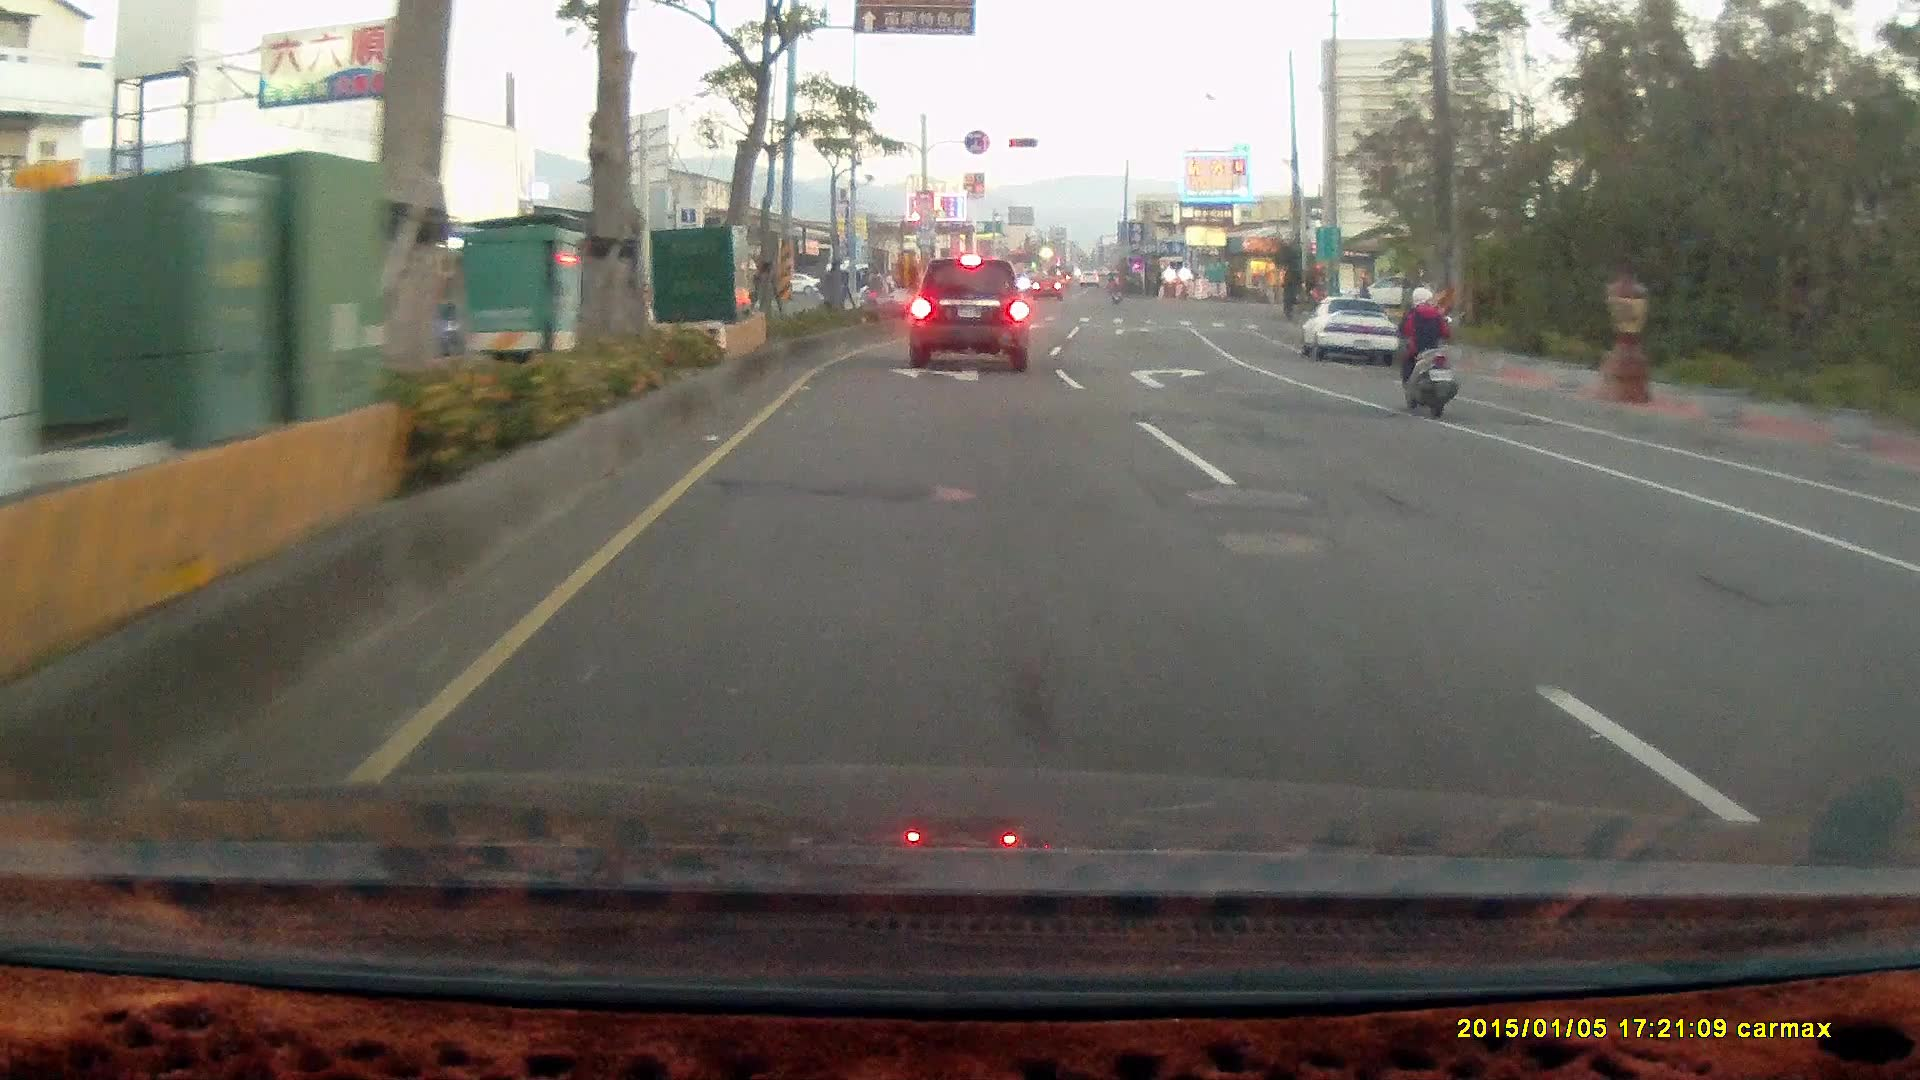rider: (1383, 278, 1460, 414)
vehicle: (907, 256, 1028, 373), (1896, 493, 1920, 836), (1298, 293, 1399, 366), (1303, 295, 1402, 368), (1883, 528, 1920, 690), (1340, 273, 1423, 309)
